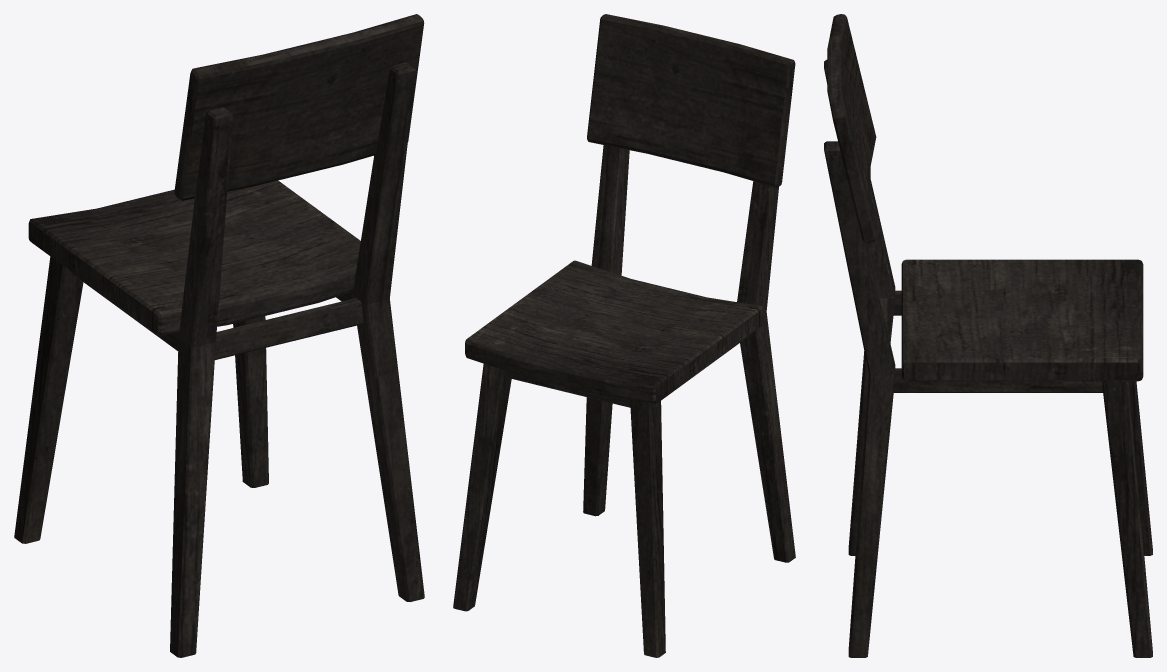
File: chair_wooden_1.obj
3 views of the same model, side by side, from view 1: azimuth 30°, elevation 25°; view 2: azimuth 150°, elevation 25°; view 3: azimuth 270°, elevation 25° (orthographic). The views are drawn at different scales.
Visible parts, largest first — view 1: chair_wooden_1; view 2: chair_wooden_1; view 3: chair_wooden_1.
Boxes of the visible parts, x1,y1,x2,y2 form: chair_wooden_1: (14,14,424,657); chair_wooden_1: (453,14,795,657); chair_wooden_1: (824,14,1152,657).
Size of the model in its own units: 0.54 by 1.23 by 0.6805.
